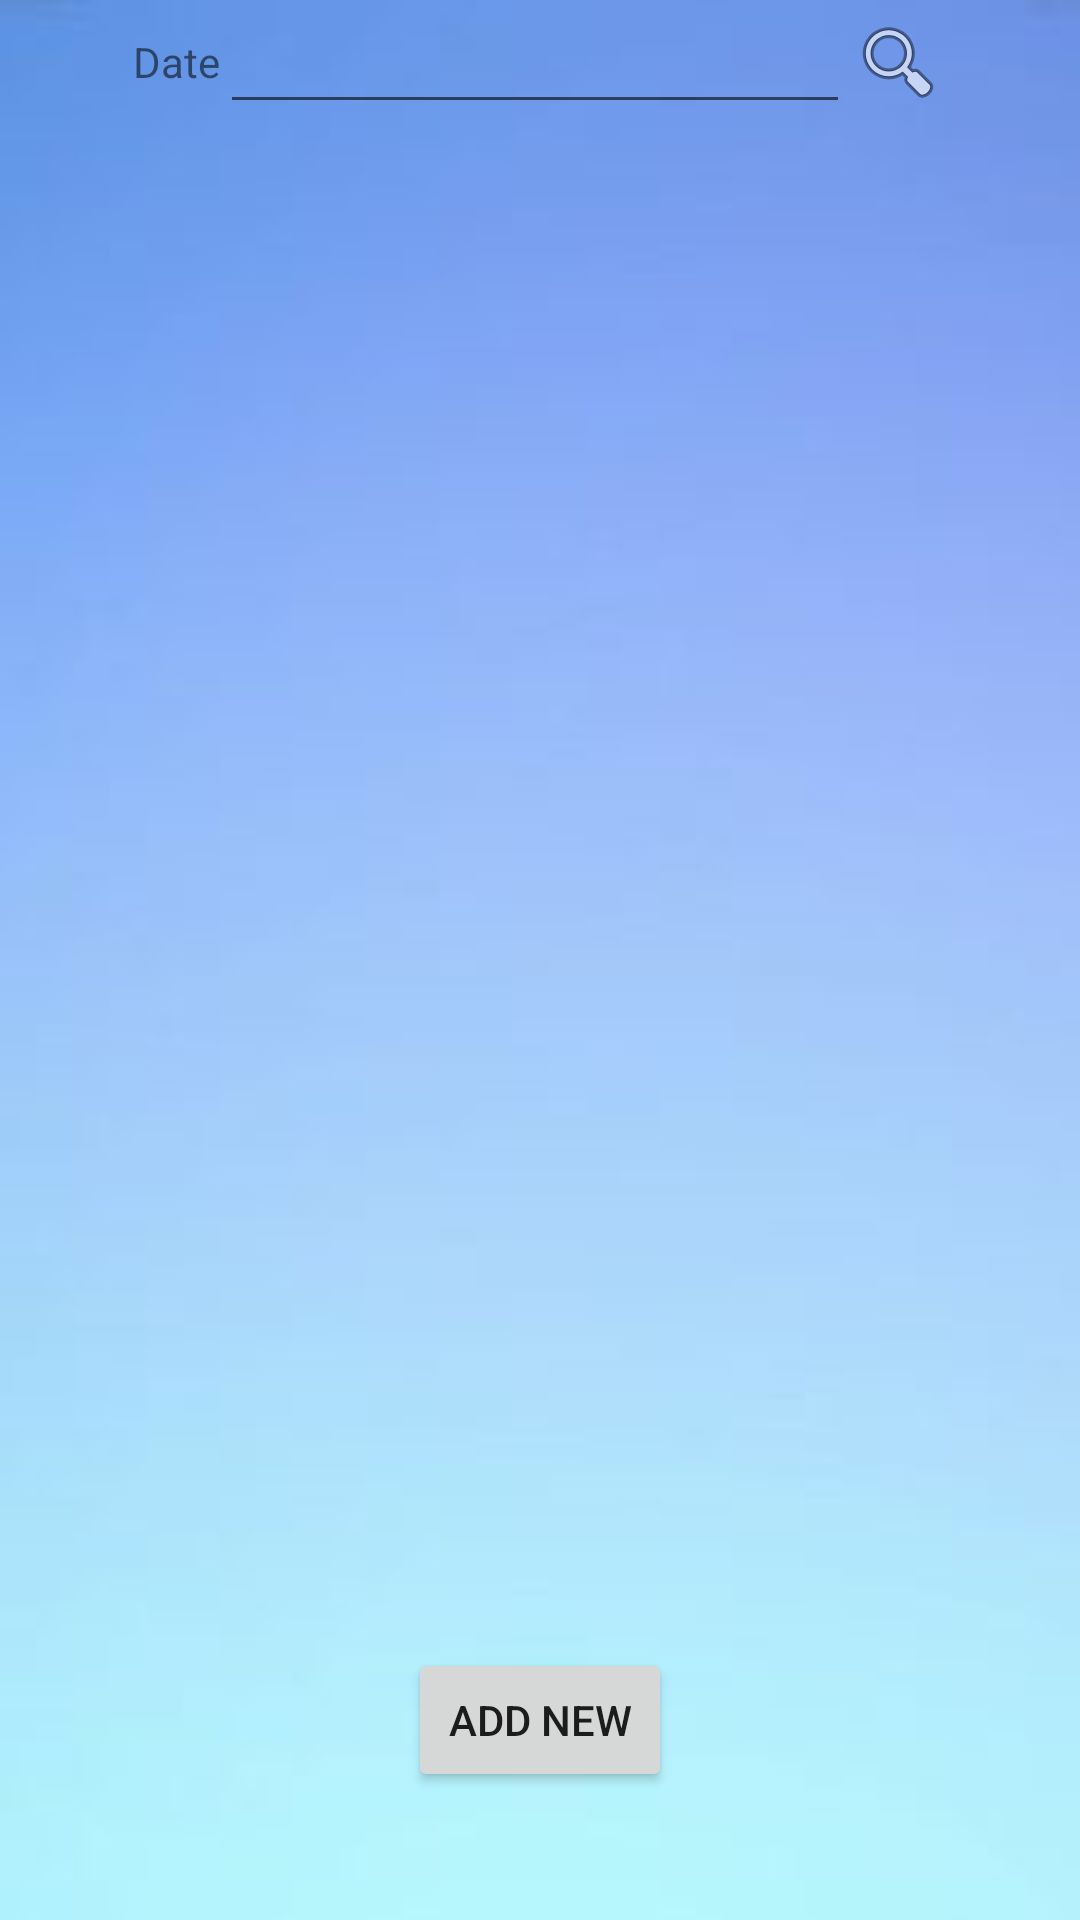

Named icons in this screenshot (1080 × 1920) and their centers, point (x, y):
search: point (898, 62)
